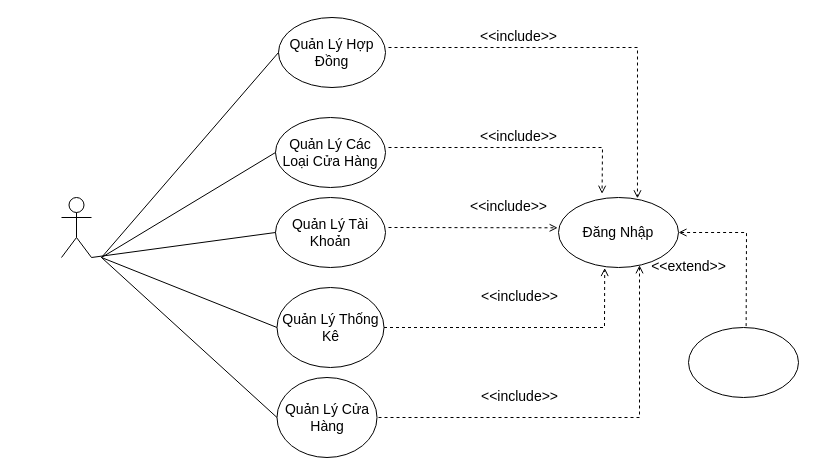
Some shapes in this 816 by 475 pixel diagram are drawn without their labels. Here are the shapes that lost their labels. From the top down, the box of each, then its label:
(60, 196, 92, 258): Quản Trị Hệ Thống
(688, 326, 798, 398): Đăng xuất
